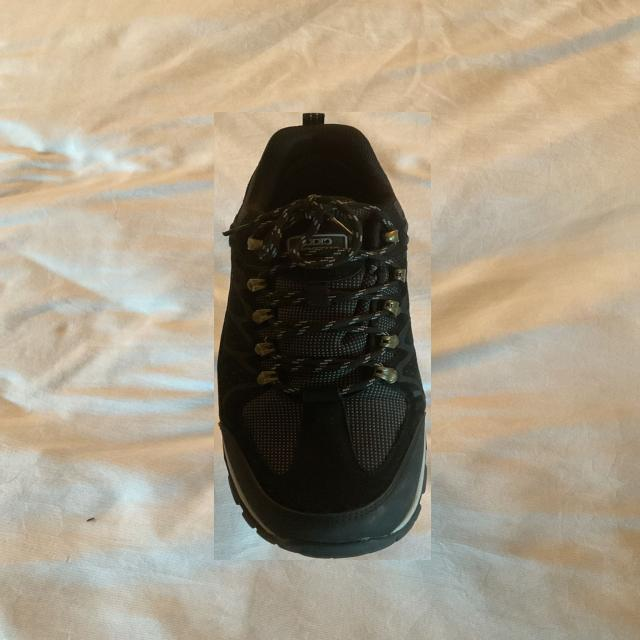shoe: (214, 112, 431, 560)
